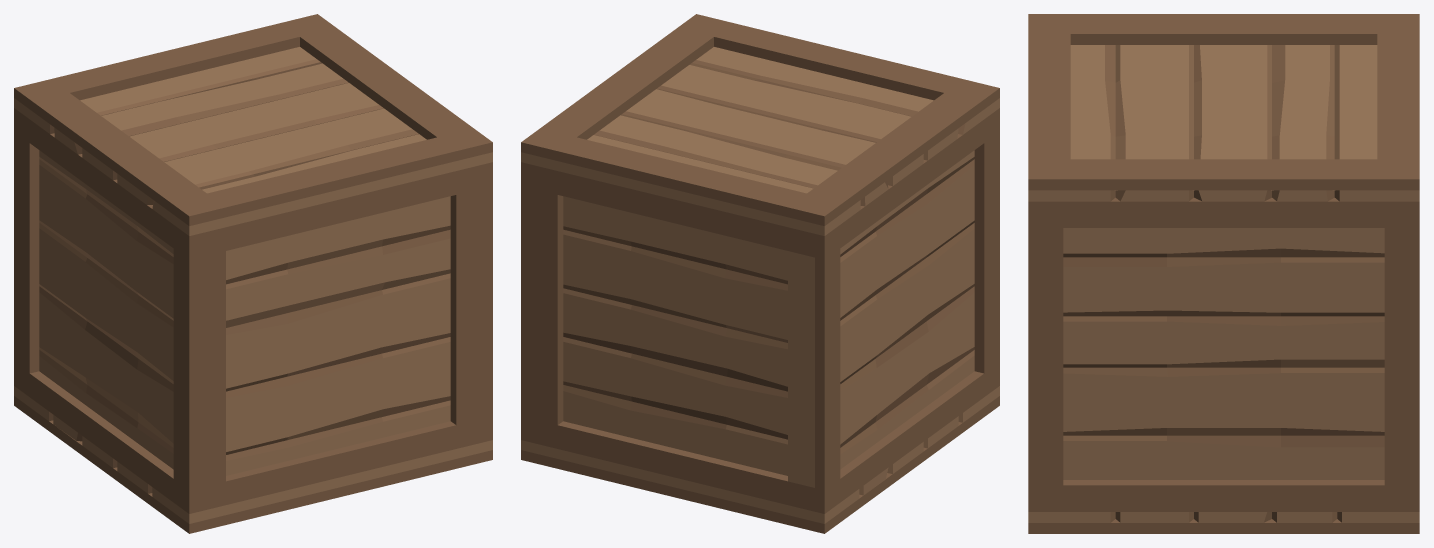
Rendered from SM_Wooden_Box_A.gltf.
3 views of the same model, side by side, from view 1: azimuth 30°, elevation 25°; view 2: azimuth 150°, elevation 25°; view 3: azimuth 270°, elevation 25° (orthographic). The views are drawn at different scales.
Parts seen in each view (by area): view 1: SM_Wooden_Box_A, SM_Wooden_Box_A_Lid; view 2: SM_Wooden_Box_A, SM_Wooden_Box_A_Lid; view 3: SM_Wooden_Box_A, SM_Wooden_Box_A_Lid.
Part boxes in pixels (x1=…): SM_Wooden_Box_A: x1=14, y1=108, x2=492, y2=533; SM_Wooden_Box_A_Lid: x1=14, y1=14, x2=492, y2=235; SM_Wooden_Box_A: x1=521, y1=108, x2=999, y2=533; SM_Wooden_Box_A_Lid: x1=521, y1=14, x2=999, y2=235; SM_Wooden_Box_A: x1=1028, y1=197, x2=1419, y2=533; SM_Wooden_Box_A_Lid: x1=1028, y1=14, x2=1419, y2=201.
Size of the model in its own units: 1 by 1 by 1.
Materials: 1 (1 with a texture image).
